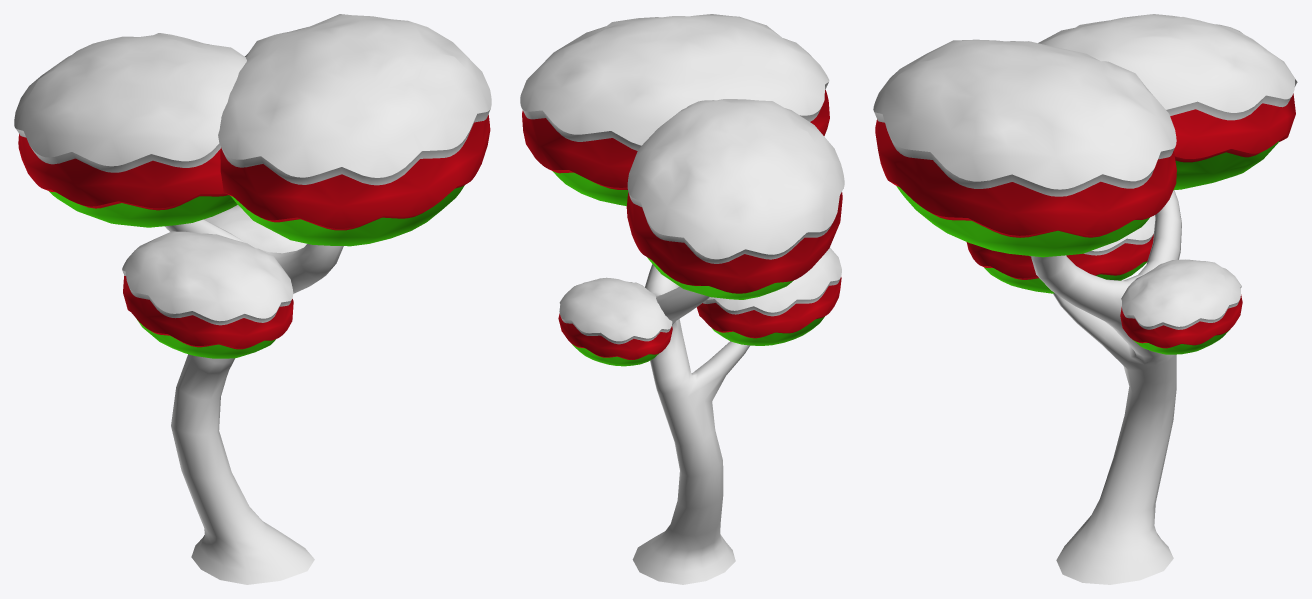
File: Tree.fbx
3 views of the same model, side by side, from view 1: azimuth 30°, elevation 25°; view 2: azimuth 150°, elevation 25°; view 3: azimuth 270°, elevation 25° (orthographic). The views are drawn at different scales.
Visible parts, largest first — view 1: Icosphere.001, Icosphere.002, Icosphere.006, Cube, Icosphere.005; view 2: Icosphere.002, Icosphere.001, Cube, Icosphere.005, Icosphere.006; view 3: Icosphere.001, Icosphere.002, Cube, Icosphere.005, Icosphere.006.
Boxes of the visible parts, left/top/right/bottom form: Icosphere.001: left=218, top=14, right=491, bottom=246; Icosphere.002: left=14, top=33, right=246, bottom=227; Icosphere.006: left=122, top=231, right=293, bottom=358; Cube: left=165, top=219, right=343, bottom=584; Icosphere.005: left=204, top=205, right=306, bottom=253; Icosphere.002: left=626, top=99, right=844, bottom=299; Icosphere.001: left=520, top=14, right=829, bottom=205; Cube: left=632, top=264, right=750, bottom=584; Icosphere.005: left=558, top=277, right=672, bottom=366; Icosphere.006: left=697, top=247, right=841, bottom=345; Icosphere.001: left=873, top=39, right=1176, bottom=257; Icosphere.002: left=1038, top=14, right=1297, bottom=190; Cube: left=1031, top=190, right=1181, bottom=584; Icosphere.005: left=1120, top=259, right=1242, bottom=354; Icosphere.006: left=966, top=215, right=1155, bottom=293.
Size of the model in its own units: 934 by 1270 by 934.
